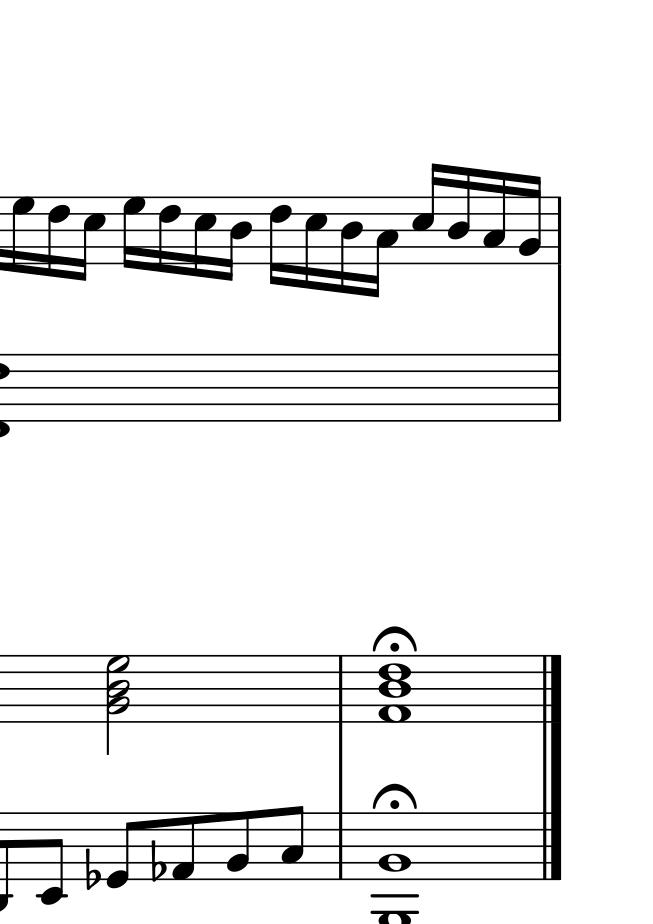16_2: (517, 174, 542, 266)
16_3: (369, 196, 401, 300), (480, 169, 508, 267)
16_4: (222, 195, 253, 283), (447, 165, 473, 266), (338, 195, 363, 297)
16_5: (411, 162, 442, 263), (75, 195, 107, 284), (303, 195, 328, 292), (191, 194, 217, 280)
16_6: (268, 195, 295, 286), (156, 195, 182, 276), (46, 196, 71, 279)
16_7: (121, 195, 147, 272), (10, 195, 34, 276)
1_-5_2: (373, 810, 418, 924)
1_th: (379, 654, 411, 725)
2_th: (105, 653, 131, 754)
8_-2: (38, 808, 67, 906)
8_0: (105, 809, 139, 890)
8_1: (172, 812, 198, 884)
8_2: (225, 809, 251, 883)
8_3: (280, 804, 305, 883)
Fermata_above: (372, 782, 419, 813), (371, 625, 419, 655)
Final_barline: (536, 654, 565, 723), (538, 812, 563, 882)
Flat: (81, 847, 102, 892), (149, 837, 167, 884)
Single_barline: (549, 354, 566, 422), (332, 656, 349, 721), (552, 196, 566, 264)
